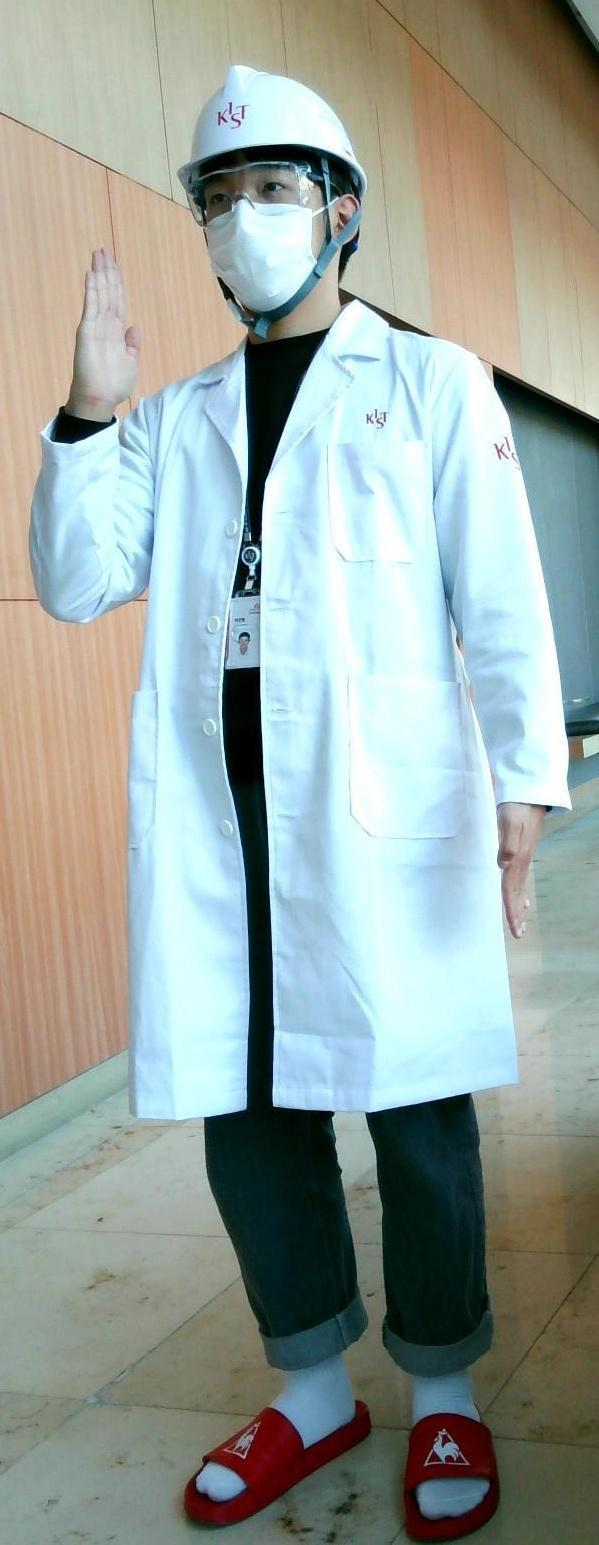lab_coat: (134, 401, 517, 1102)
